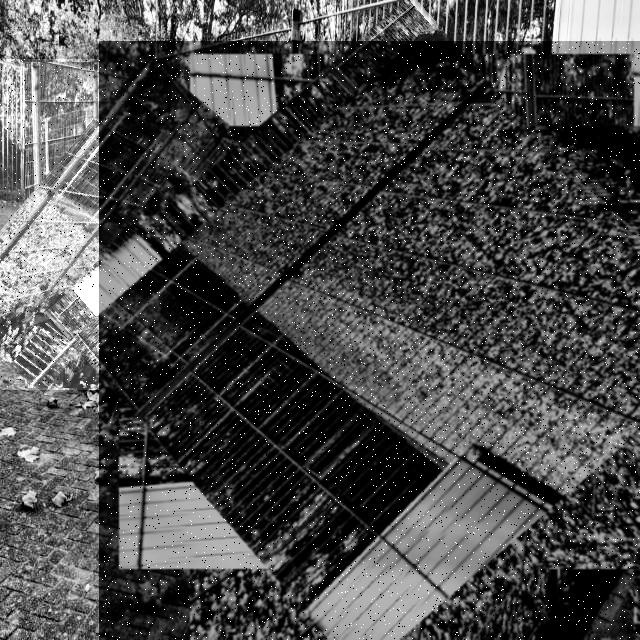fences: (99, 41, 640, 640), (0, 59, 207, 390)
